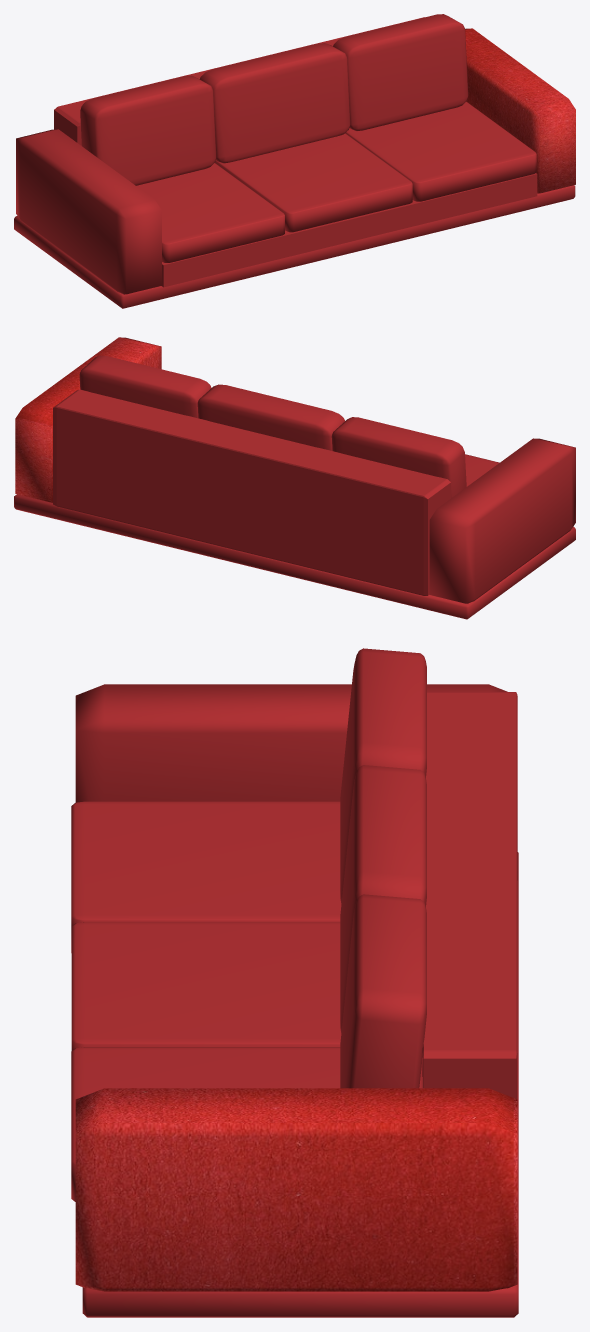
The model's file is sofa.obj.
The picture shows the model from 3 angles, top to bottom: view 1: azimuth 30°, elevation 25°; view 2: azimuth 150°, elevation 25°; view 3: azimuth 270°, elevation 25°; orthographic projection. The views are drawn at different scales.
Visible parts, largest first — view 1: Cube.009_Cube.014; view 2: Cube.009_Cube.014; view 3: Cube.009_Cube.014.
Boxes of the visible parts, x1,y1,x2,y2 form: Cube.009_Cube.014: (14, 14, 575, 308); Cube.009_Cube.014: (14, 337, 575, 619); Cube.009_Cube.014: (71, 648, 518, 1317).
Size of the model in its own units: 2 by 0.5834 by 0.8519.
